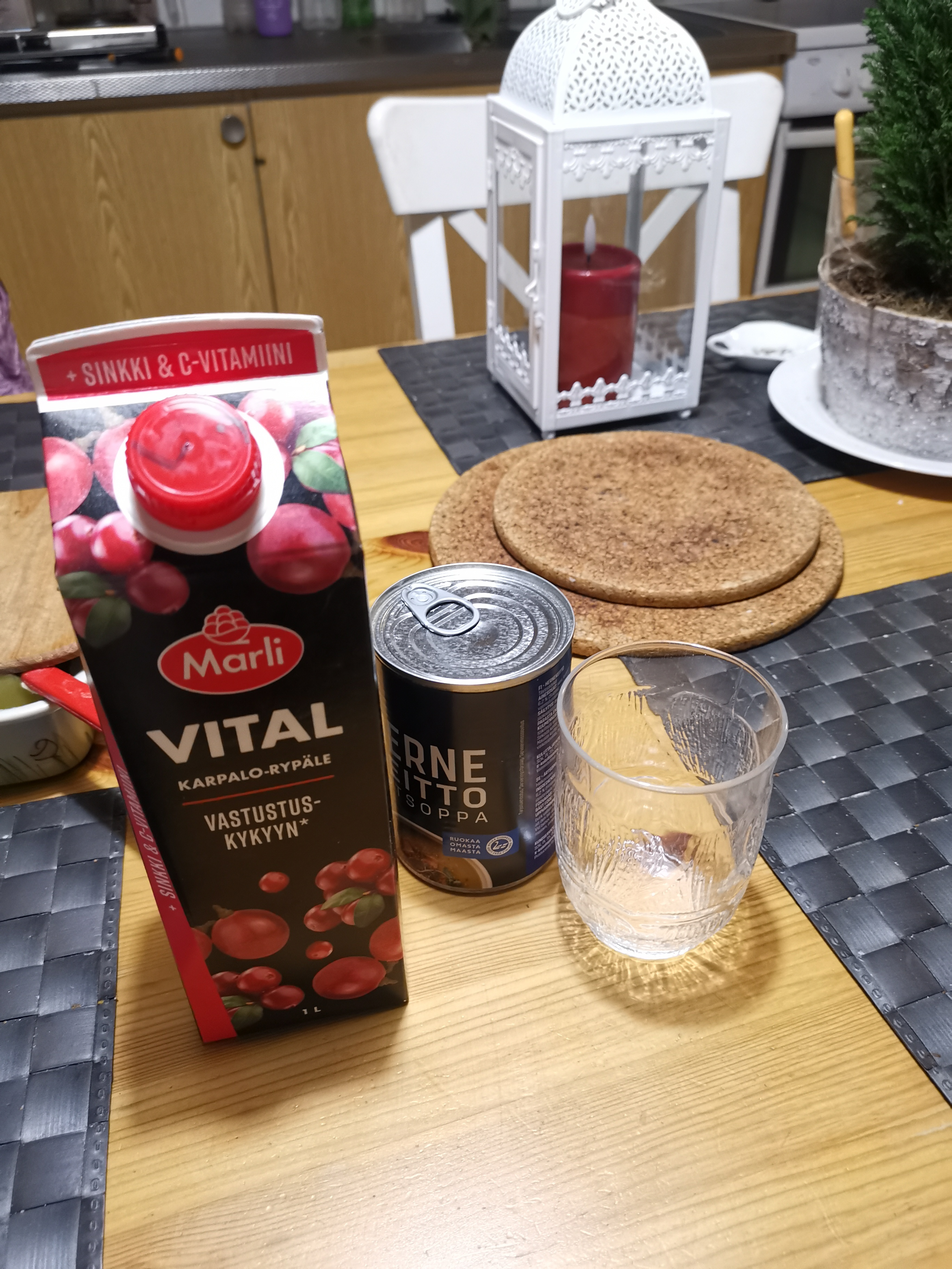Dryckeskartong: (22, 310, 411, 1048)
Konservburk: (366, 558, 578, 899)
